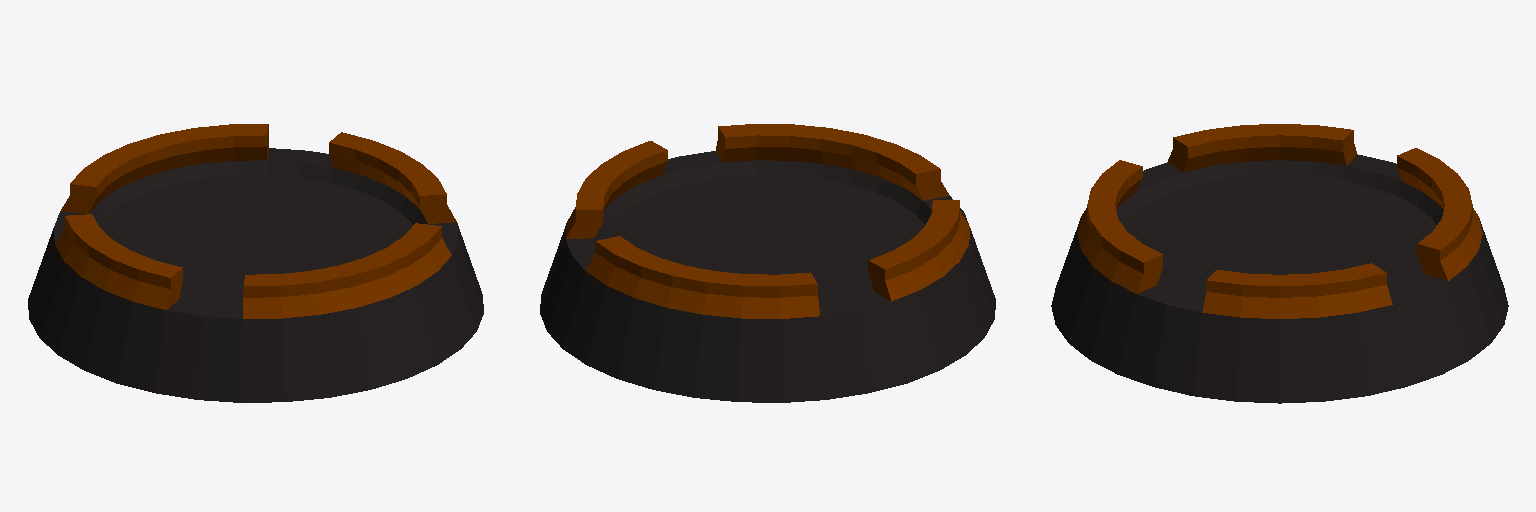
File: platform.obj
3 renders of one model, left to right at view 1: azimuth 30°, elevation 25°; view 2: azimuth 150°, elevation 25°; view 3: azimuth 270°, elevation 25°, orthographic.
Visible parts, largest first — view 1: Cylinder.003_Cylinder.002; view 2: Cylinder.003_Cylinder.002; view 3: Cylinder.003_Cylinder.002.
Boxes of the visible parts, box(x1,y1,x2,y2) form: Cylinder.003_Cylinder.002: box(28, 124, 483, 402); Cylinder.003_Cylinder.002: box(540, 124, 995, 402); Cylinder.003_Cylinder.002: box(1051, 124, 1508, 403).
Size of the model in its own units: 1.33 by 0.3256 by 1.33.